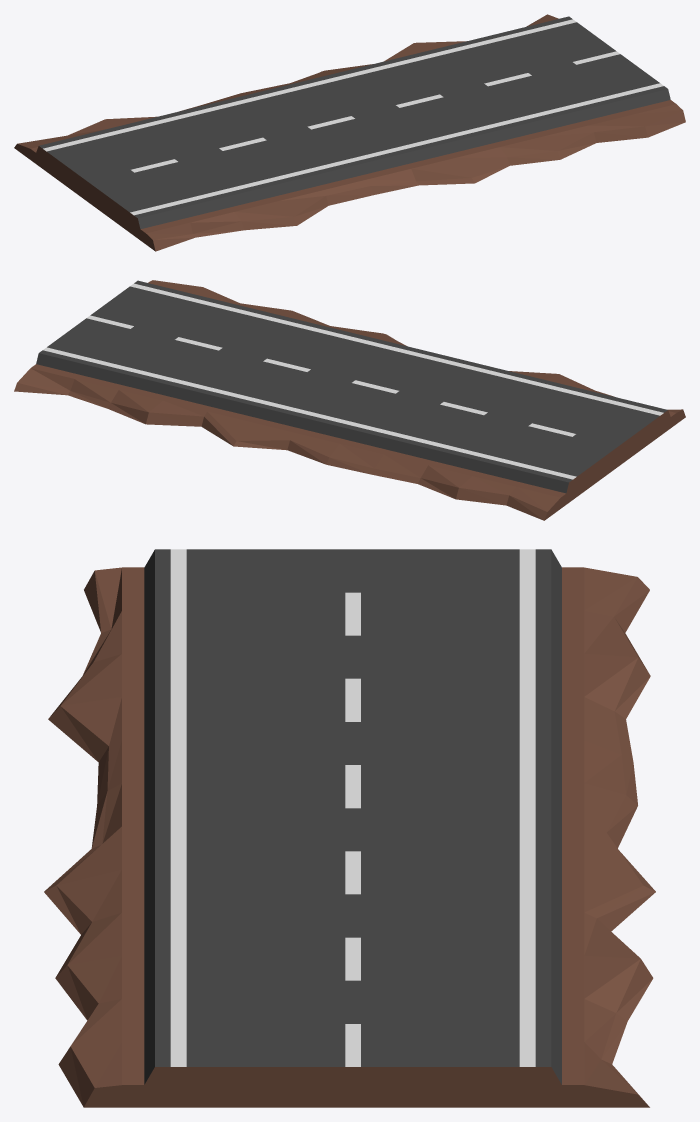
Rendered from 1229_Road.obj.
The picture shows the model from 3 angles, top to bottom: view 1: azimuth 30°, elevation 25°; view 2: azimuth 150°, elevation 25°; view 3: azimuth 270°, elevation 25°; orthographic projection. The views are drawn at different scales.
Parts seen in each view (by area): view 1: Road; view 2: Road; view 3: Road.
Boxes of the visible parts, <box> form: Road: <box>14,14,685,251</box>; Road: <box>14,280,685,520</box>; Road: <box>44,549,655,1107</box>.
Bounding box in the file's own units: 200 × 7.31 × 100.
Materials: 1 (1 with a texture image).
